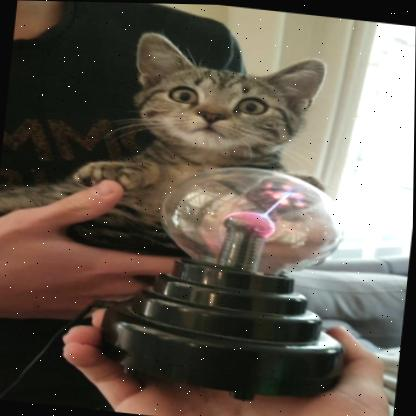cat: (57, 30, 328, 244)
